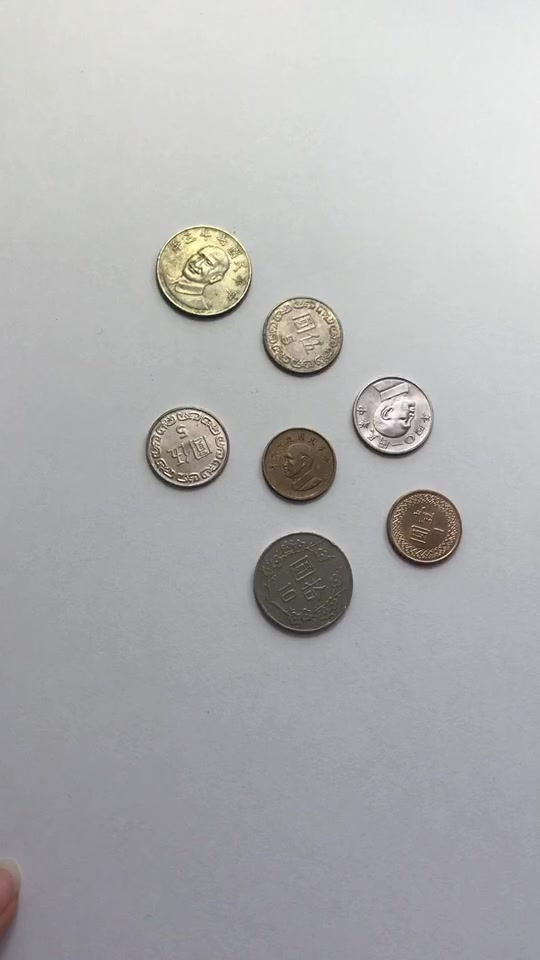1 dallar: (252, 419, 344, 512), (380, 483, 472, 576)
10 dallar: (244, 526, 365, 647), (141, 220, 259, 323)
5 dallar: (135, 395, 234, 503), (345, 364, 444, 472), (254, 286, 353, 394)
